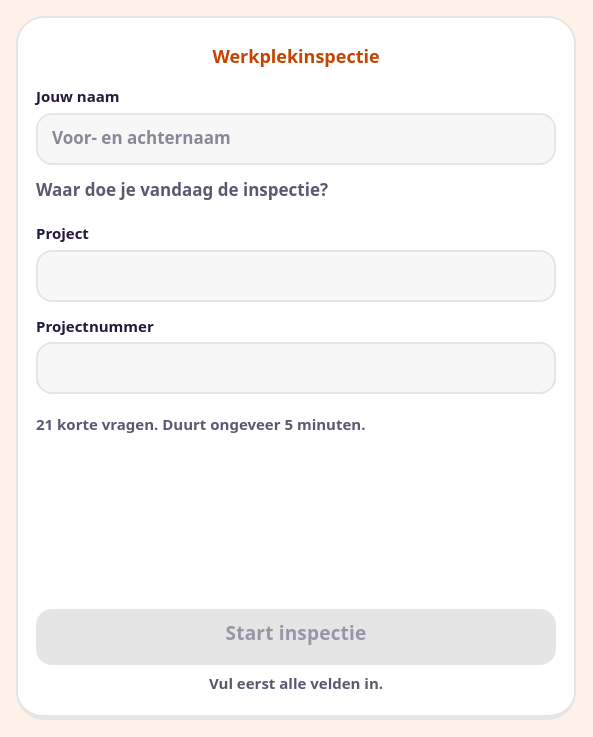
Test: start screen › the keyboard key goes to the next field; on the last one it starts once all is filled in
Step 1. Type "J. Jansen" into the field labelled "Jouw naam" → (296, 138), box [36, 112, 556, 164]
Then press Enter
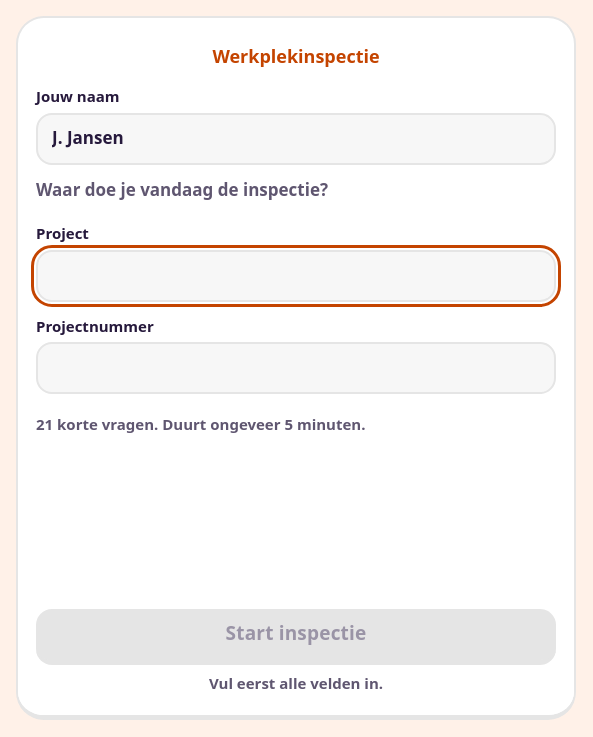
Step 2. Type keys "Voorbeeld B.V.{Enter}"
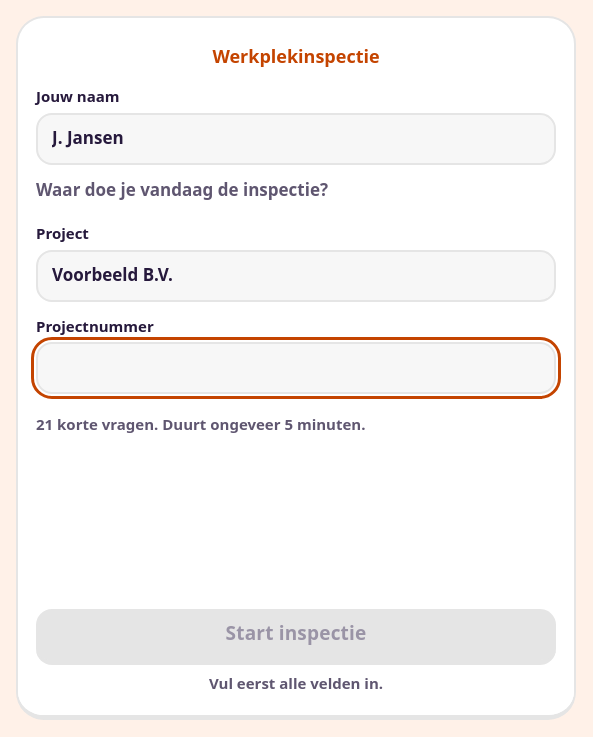
Step 3. Type keys "P-1{Enter}"
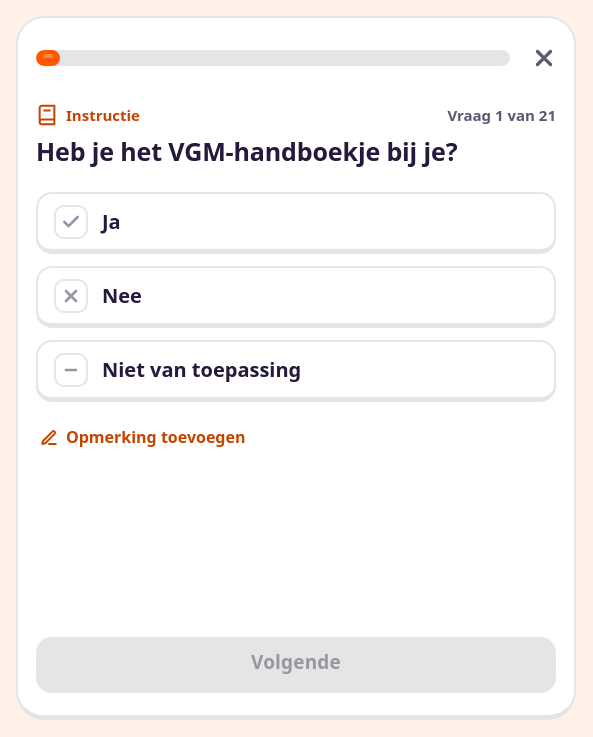
Now the text "Heb je het VGM-handboekje bij je?" is shown, box [36, 136, 457, 166]
